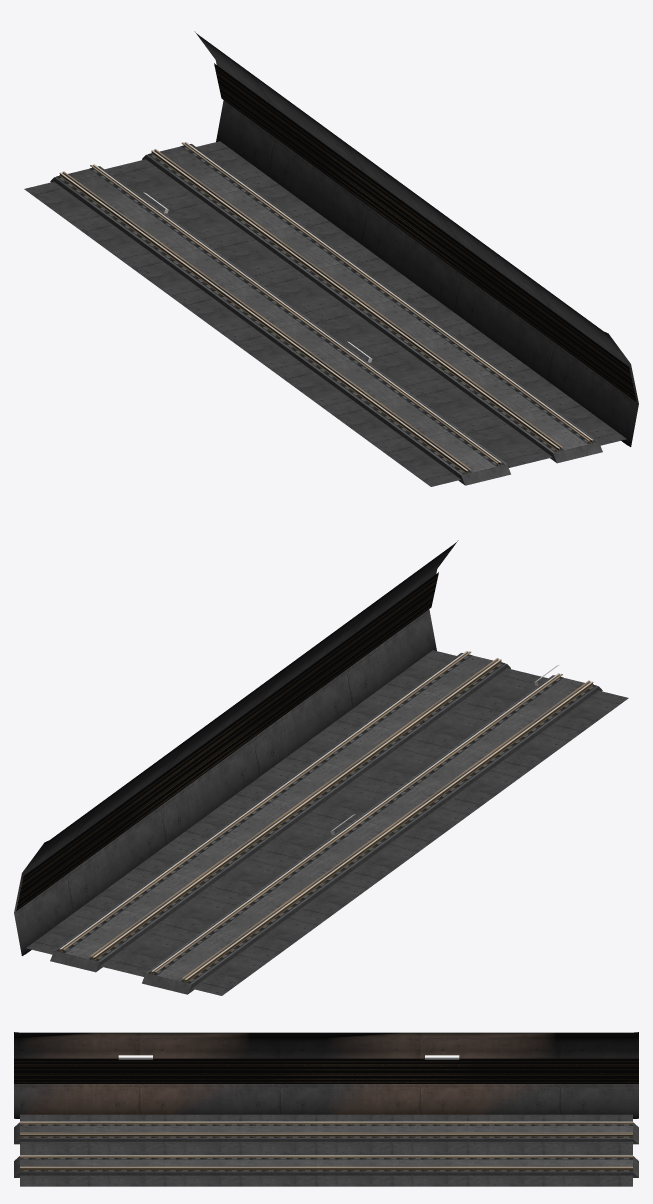
File: KQ_TONNNEL_100.glb
3 renders of one model, top to bottom at view 1: azimuth 30°, elevation 25°; view 2: azimuth 150°, elevation 25°; view 3: azimuth 270°, elevation 25°, orthographic. The views are drawn at different scales.
Visible parts, largest first — view 1: obj, line, R000_RG_R, R000_RG_L; view 2: obj, line, R000_RG_R, R000_RG_L; view 3: obj, line, R000_RG_L, R000_RG_R.
Part boxes in pixels (x1,y1,x2,y2): obj: (24, 31, 638, 486); line: (214, 63, 636, 402); R000_RG_R: (62, 149, 562, 471); R000_RG_L: (90, 142, 589, 463); obj: (14, 540, 628, 995); line: (16, 572, 438, 911); R000_RG_R: (90, 658, 590, 980); R000_RG_L: (62, 651, 562, 973); obj: (14, 1032, 638, 1186); line: (14, 1058, 638, 1083); R000_RG_L: (20, 1132, 632, 1167); R000_RG_R: (20, 1122, 632, 1157).
Size of the model in its own units: 29.72 by 20.51 by 102.
11 materials, 10 textured.
